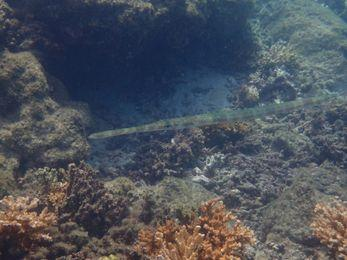Fistularia commersonii: (76, 88, 347, 148)
